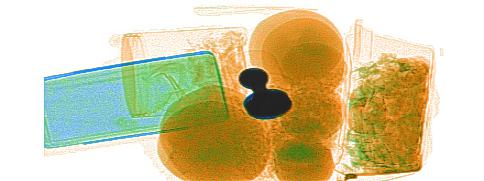seal: (238, 67, 292, 120)
